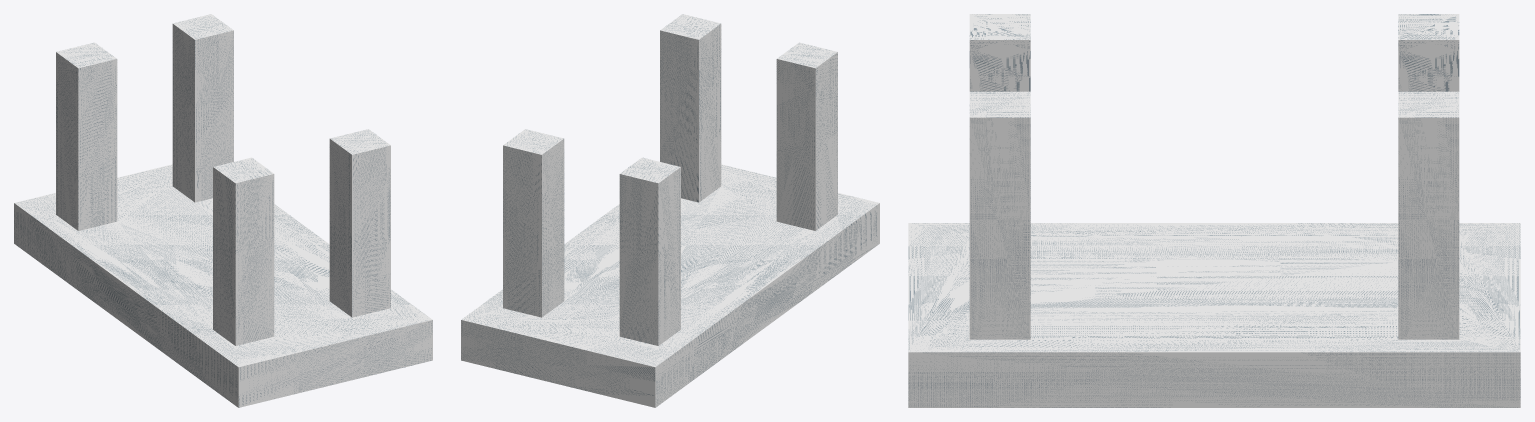
File: table.fbx
3 renders of one model, left to right at view 1: azimuth 30°, elevation 25°; view 2: azimuth 150°, elevation 25°; view 3: azimuth 270°, elevation 25°, orthographic. The views are drawn at different scales.
Visible parts, largest first — view 1: Model; view 2: Model; view 3: Model.
Boxes of the visible parts, <box> form: Model: <box>14,14,432,407</box>; Model: <box>461,14,879,407</box>; Model: <box>908,14,1520,407</box>.
Bounding box in the file's own units: 250 × 250 × 500.
